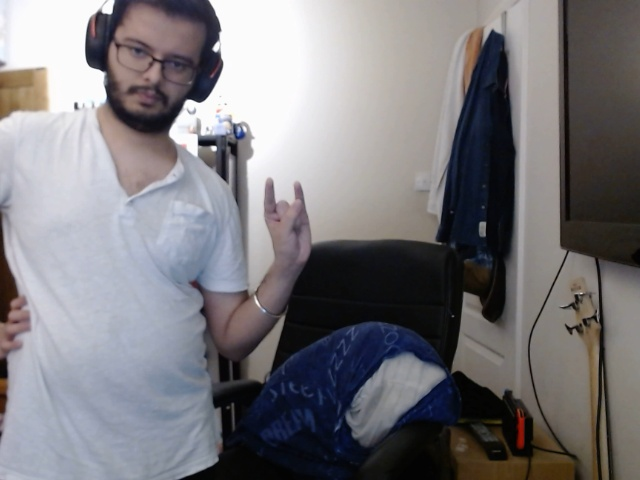Rock on: (246, 170, 325, 286)
